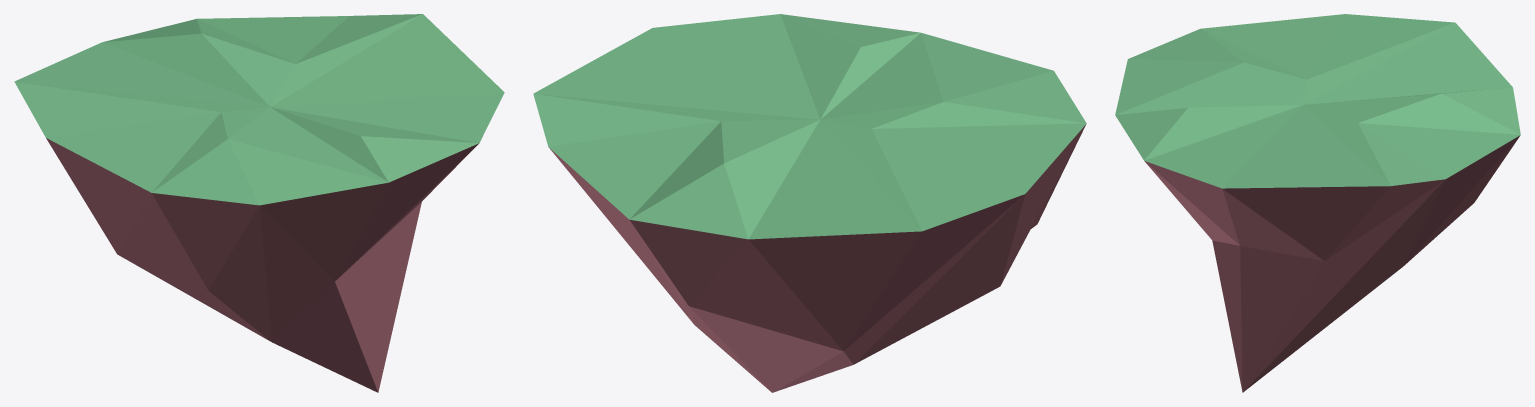
File: floatisland.fbx
3 views of the same model, side by side, from view 1: azimuth 30°, elevation 25°; view 2: azimuth 150°, elevation 25°; view 3: azimuth 270°, elevation 25° (orthographic). The views are drawn at different scales.
Visible parts, largest first — view 1: Cone; view 2: Cone; view 3: Cone.
Boxes of the visible parts, x1,y1,x2,y2 form: Cone: (14,14,504,392); Cone: (533,14,1086,392); Cone: (1115,14,1520,392).
Bounding box in the file's own units: 197 × 139 × 189.
